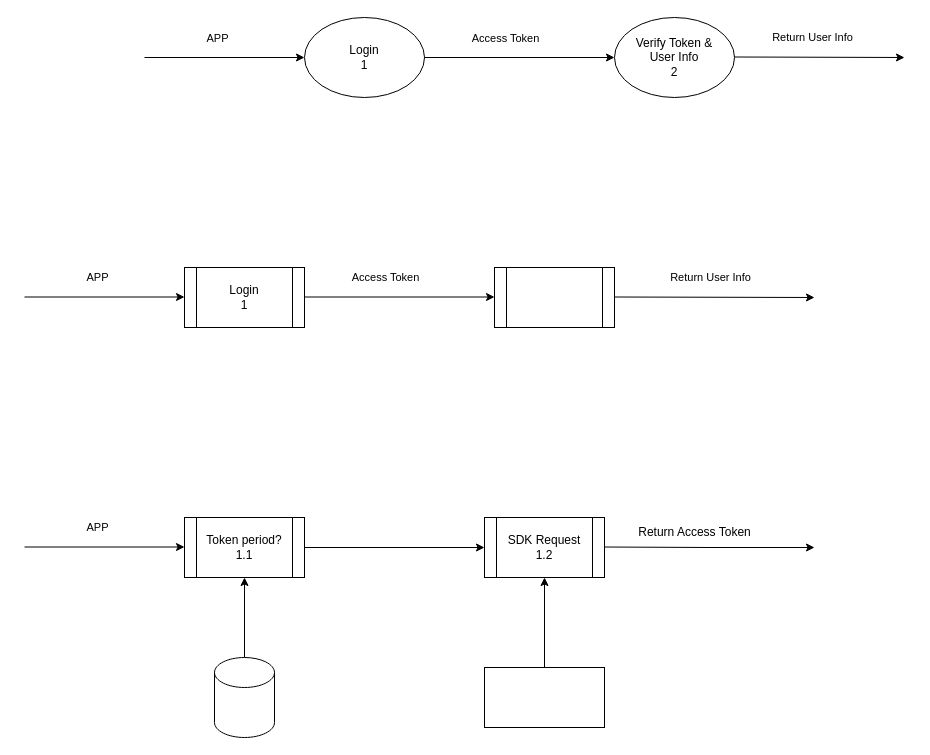
The diagram is 930 pixels wide and 755 high, and some of its shapes have lost their labels. Each missing label, with the centre of its shape:
"Facebook" goes at (x=544, y=697).
"Local Access Token" goes at (x=244, y=697).
"Verify token & get user info 2" goes at (x=554, y=297).
